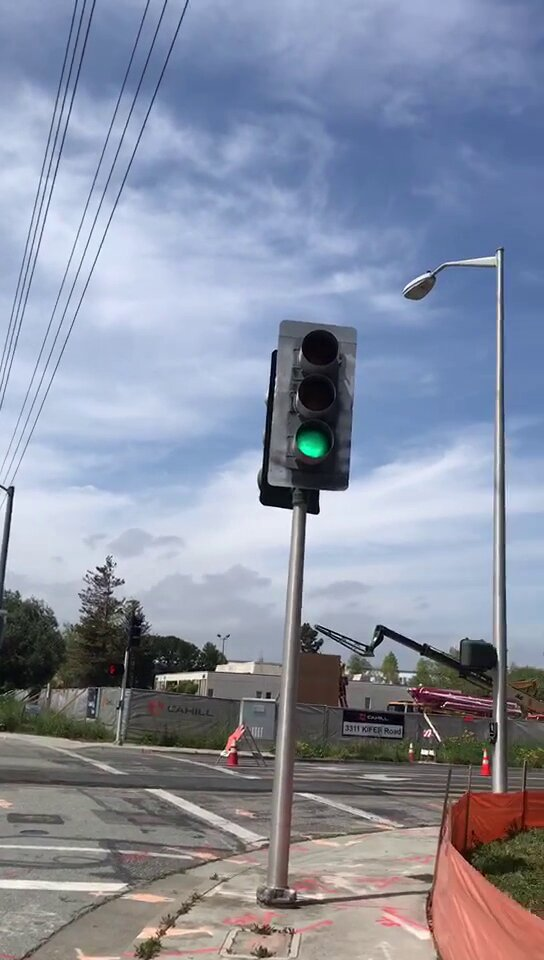green_light: (281, 328, 345, 489)
